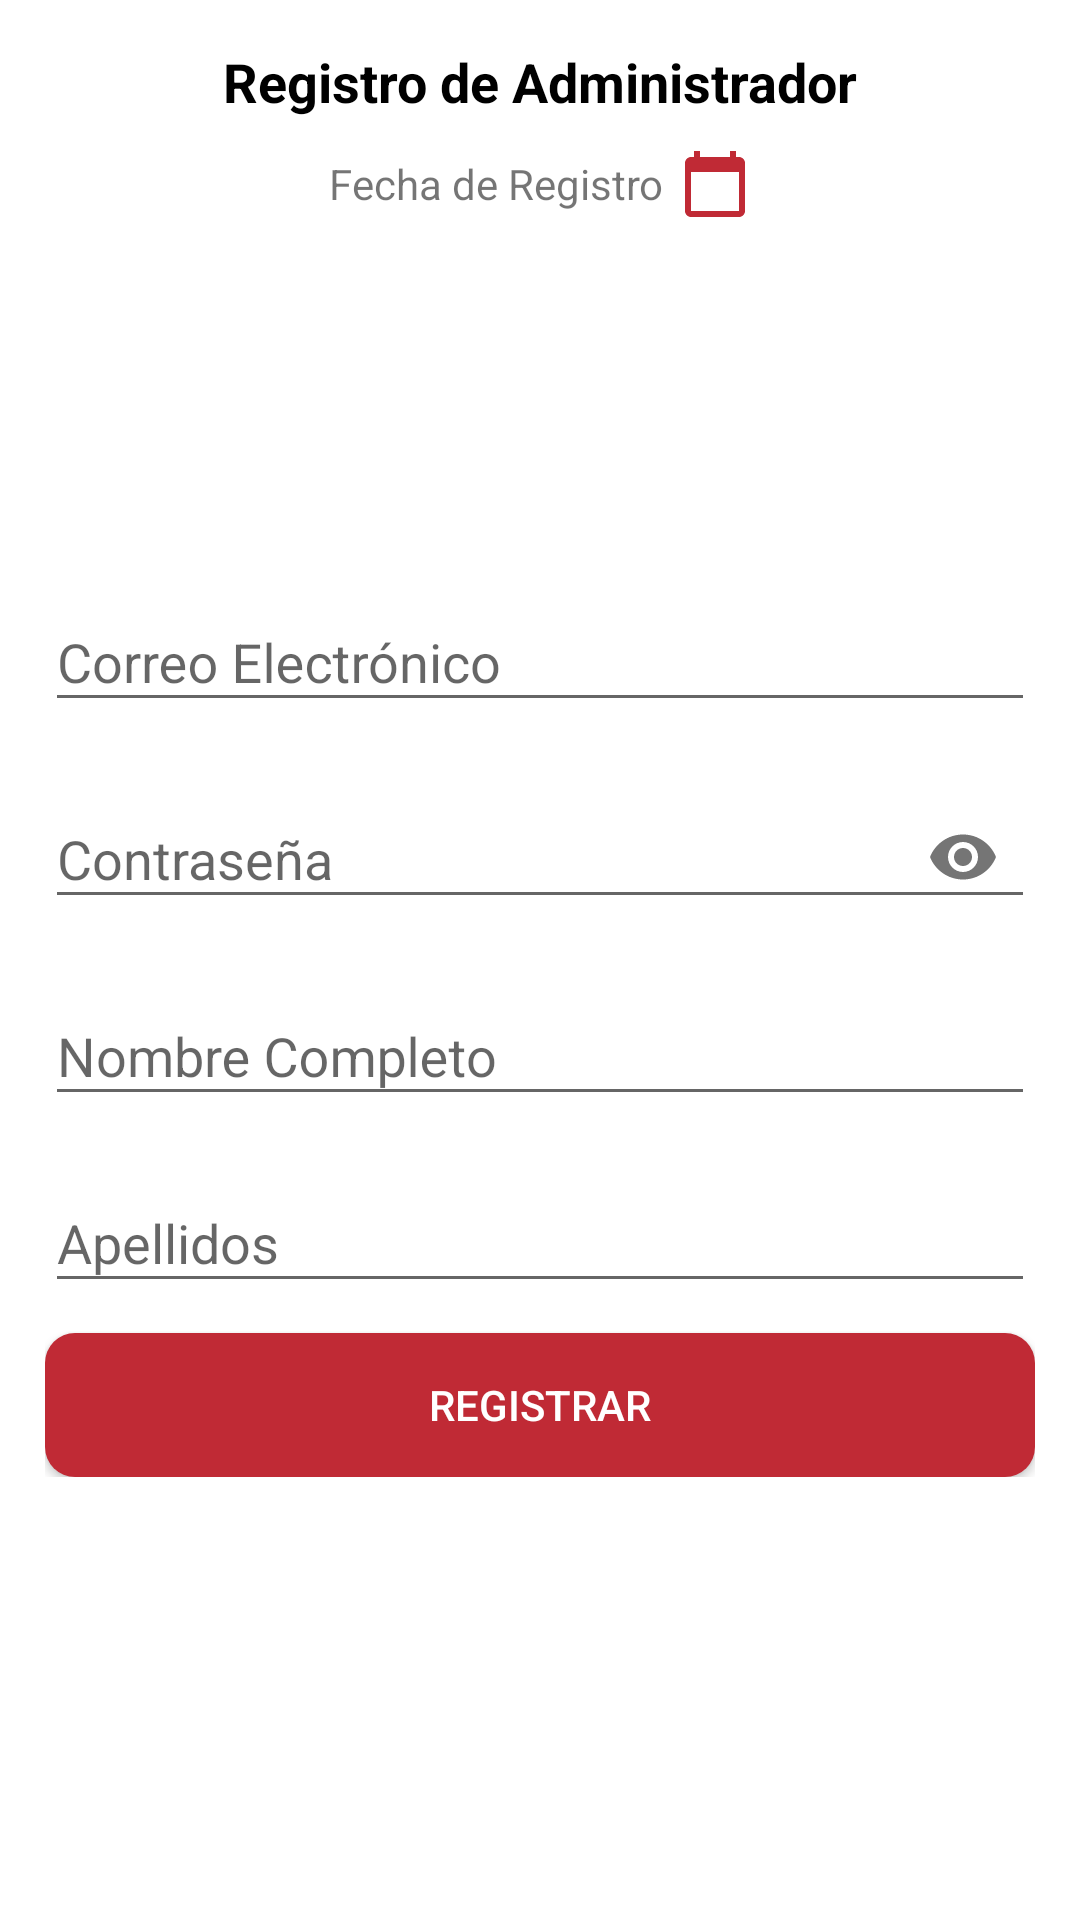

Screen size 1080 x 1920. Icon name, then its box in pixels as box(x1, y1, x2, y2):
calendar: box(685, 151, 745, 217)
